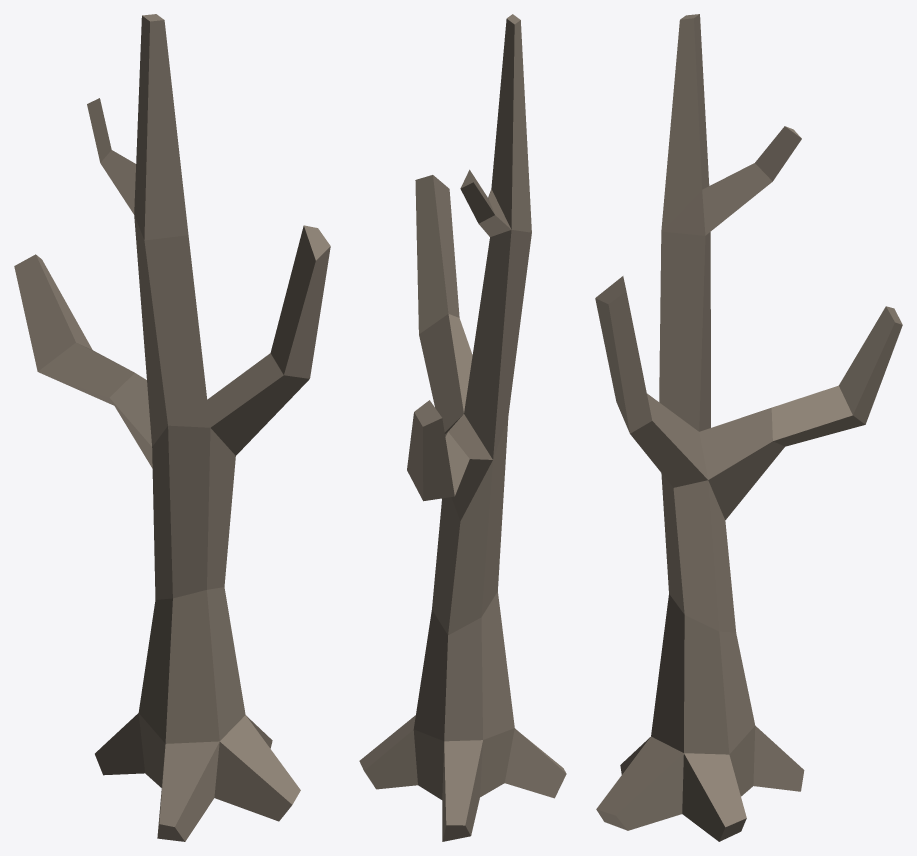
The model's file is SM_Env_Tree_Dead_01.fbx.
3 renders of one model, left to right at view 1: azimuth 30°, elevation 25°; view 2: azimuth 150°, elevation 25°; view 3: azimuth 270°, elevation 25°, orthographic. The views are drawn at different scales.
Visible parts, largest first — view 1: SM_Env_Tree_Dead_01; view 2: SM_Env_Tree_Dead_01; view 3: SM_Env_Tree_Dead_01.
Part boxes in pixels (left/top/right/bottom): SM_Env_Tree_Dead_01: left=14, top=14, right=330, bottom=841; SM_Env_Tree_Dead_01: left=359, top=14, right=566, bottom=841; SM_Env_Tree_Dead_01: left=595, top=14, right=902, bottom=841.
Size of the model in its own units: 142 by 636 by 229.
